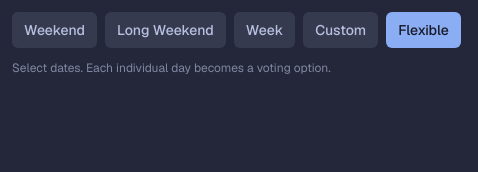
Test: PatternPicker › help text › shows appropriate help text for weekend preset
Click the button "Weekend" at (54, 30), box [12,12,97,48]
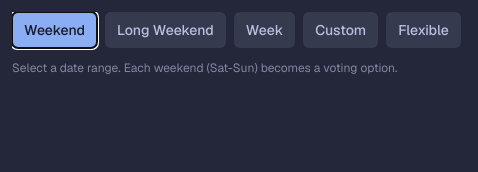
Now the text "Each weekend (Sat-Sun) becomes a voting option" is shown, box [12,60,398,76]
